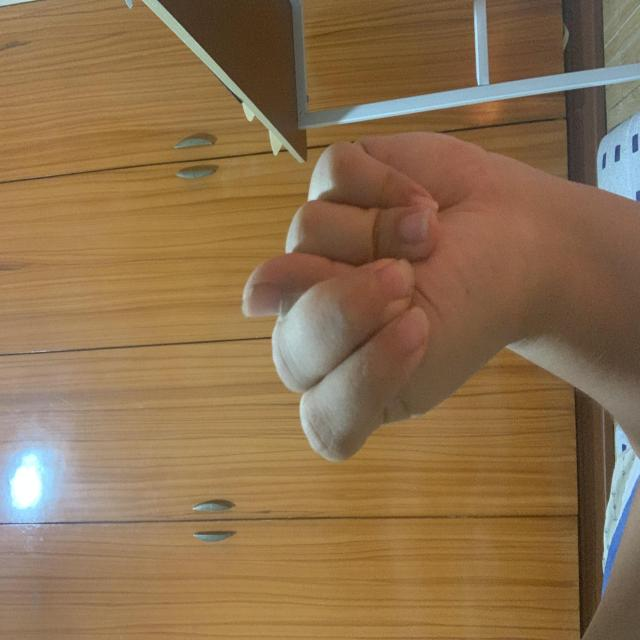N: (131, 240, 463, 539)
